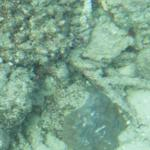dead: (5, 3, 144, 145)
